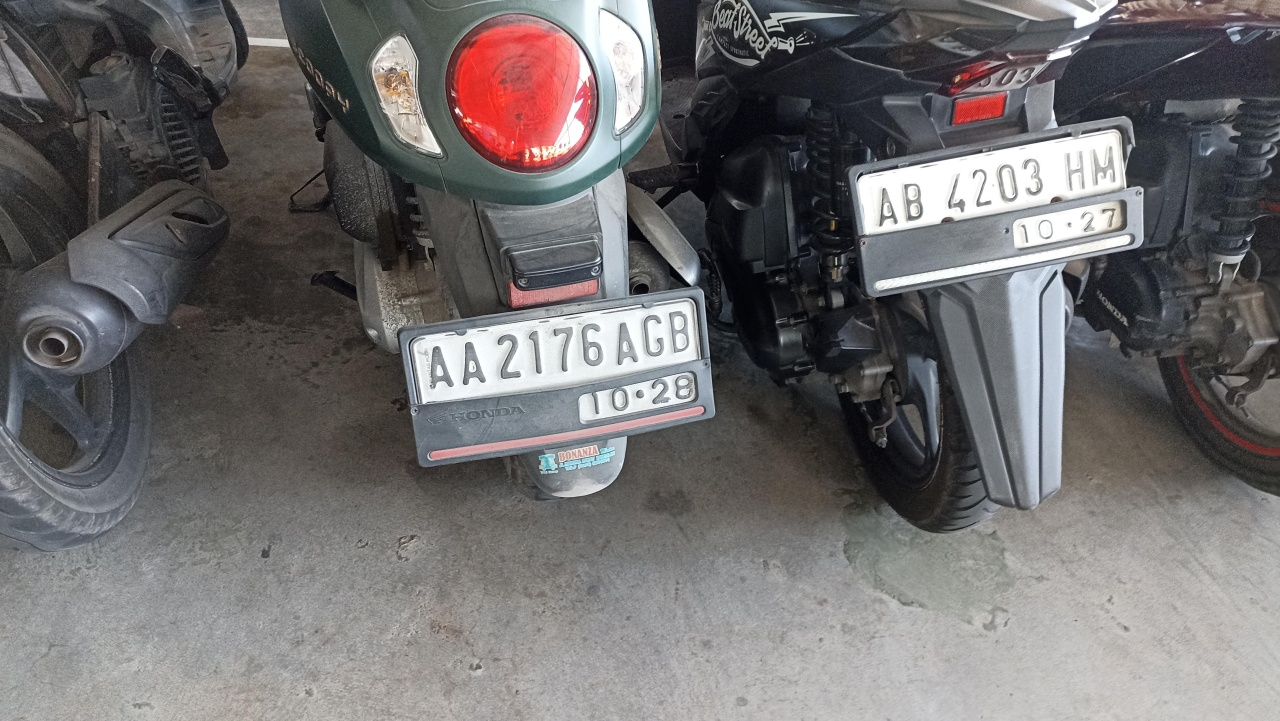plate: (402, 293, 712, 467), (853, 122, 1141, 298)
